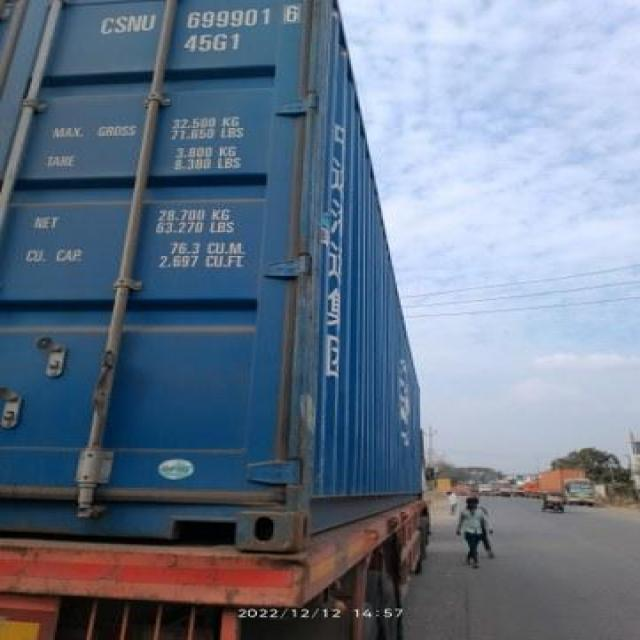container_number_h: (64, 3, 326, 73)
